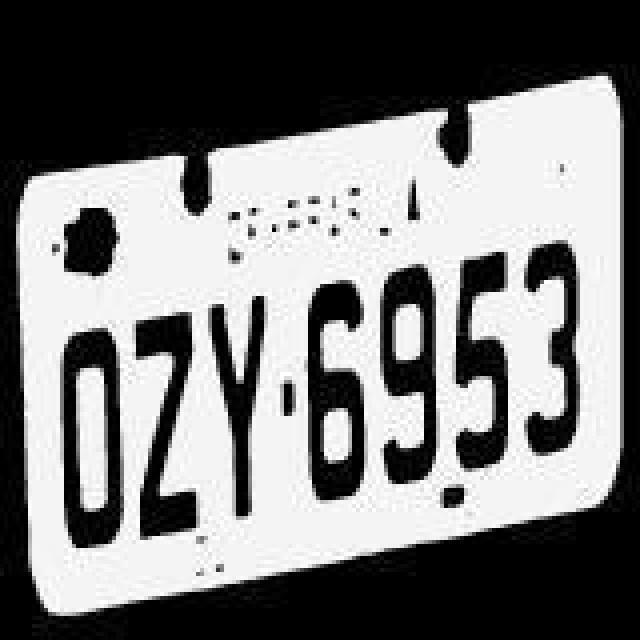3: (522, 214, 598, 474)
5: (448, 218, 528, 486)
6: (290, 262, 374, 522)
9: (376, 248, 440, 504)
O: (48, 312, 128, 560)
Y: (202, 282, 270, 534)
Z: (128, 304, 208, 560)
